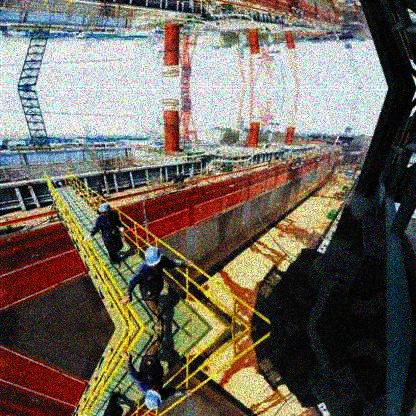helmet: (144, 386, 163, 410), (144, 246, 162, 270), (97, 203, 110, 219)
